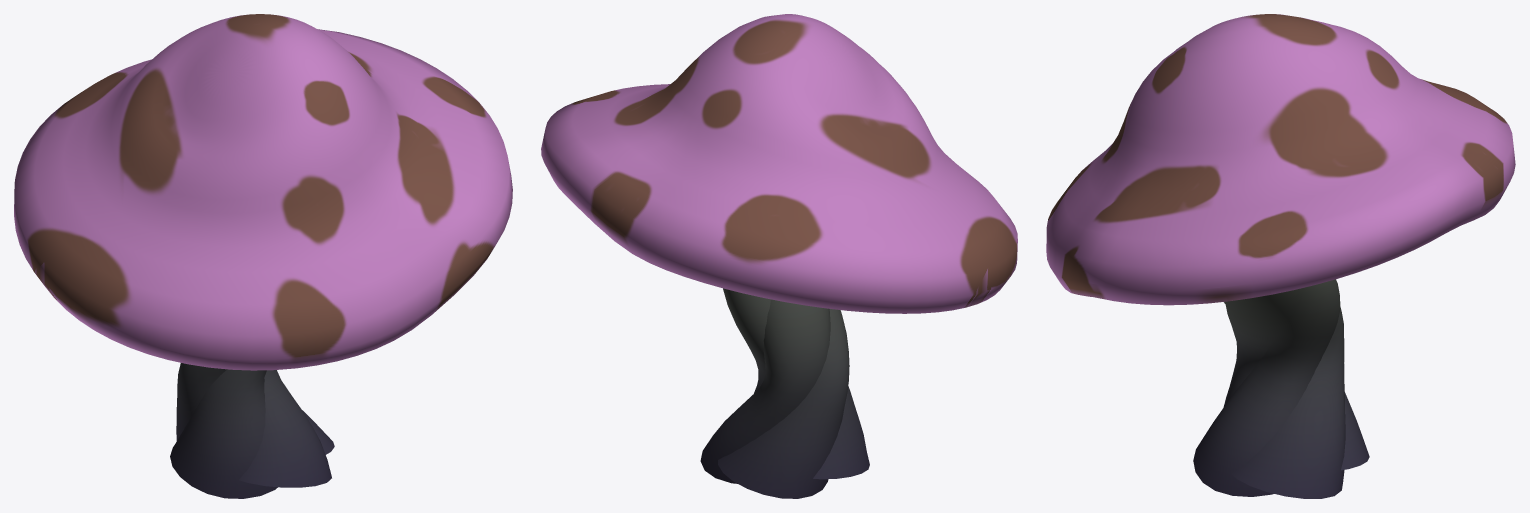
The model's file is mushroom.fbx.
3 views of the same model, side by side, from view 1: azimuth 30°, elevation 25°; view 2: azimuth 150°, elevation 25°; view 3: azimuth 270°, elevation 25° (orthographic). The views are drawn at different scales.
Parts seen in each view (by area): view 1: Sphere; view 2: Sphere; view 3: Sphere.
Part boxes in pixels (x1,y1,x2,y2): Sphere: (14,14,512,498); Sphere: (541,14,1017,498); Sphere: (1046,14,1515,498).
Size of the model in its own units: 110 by 109 by 101.
Materials: 2 (2 with a texture image).
